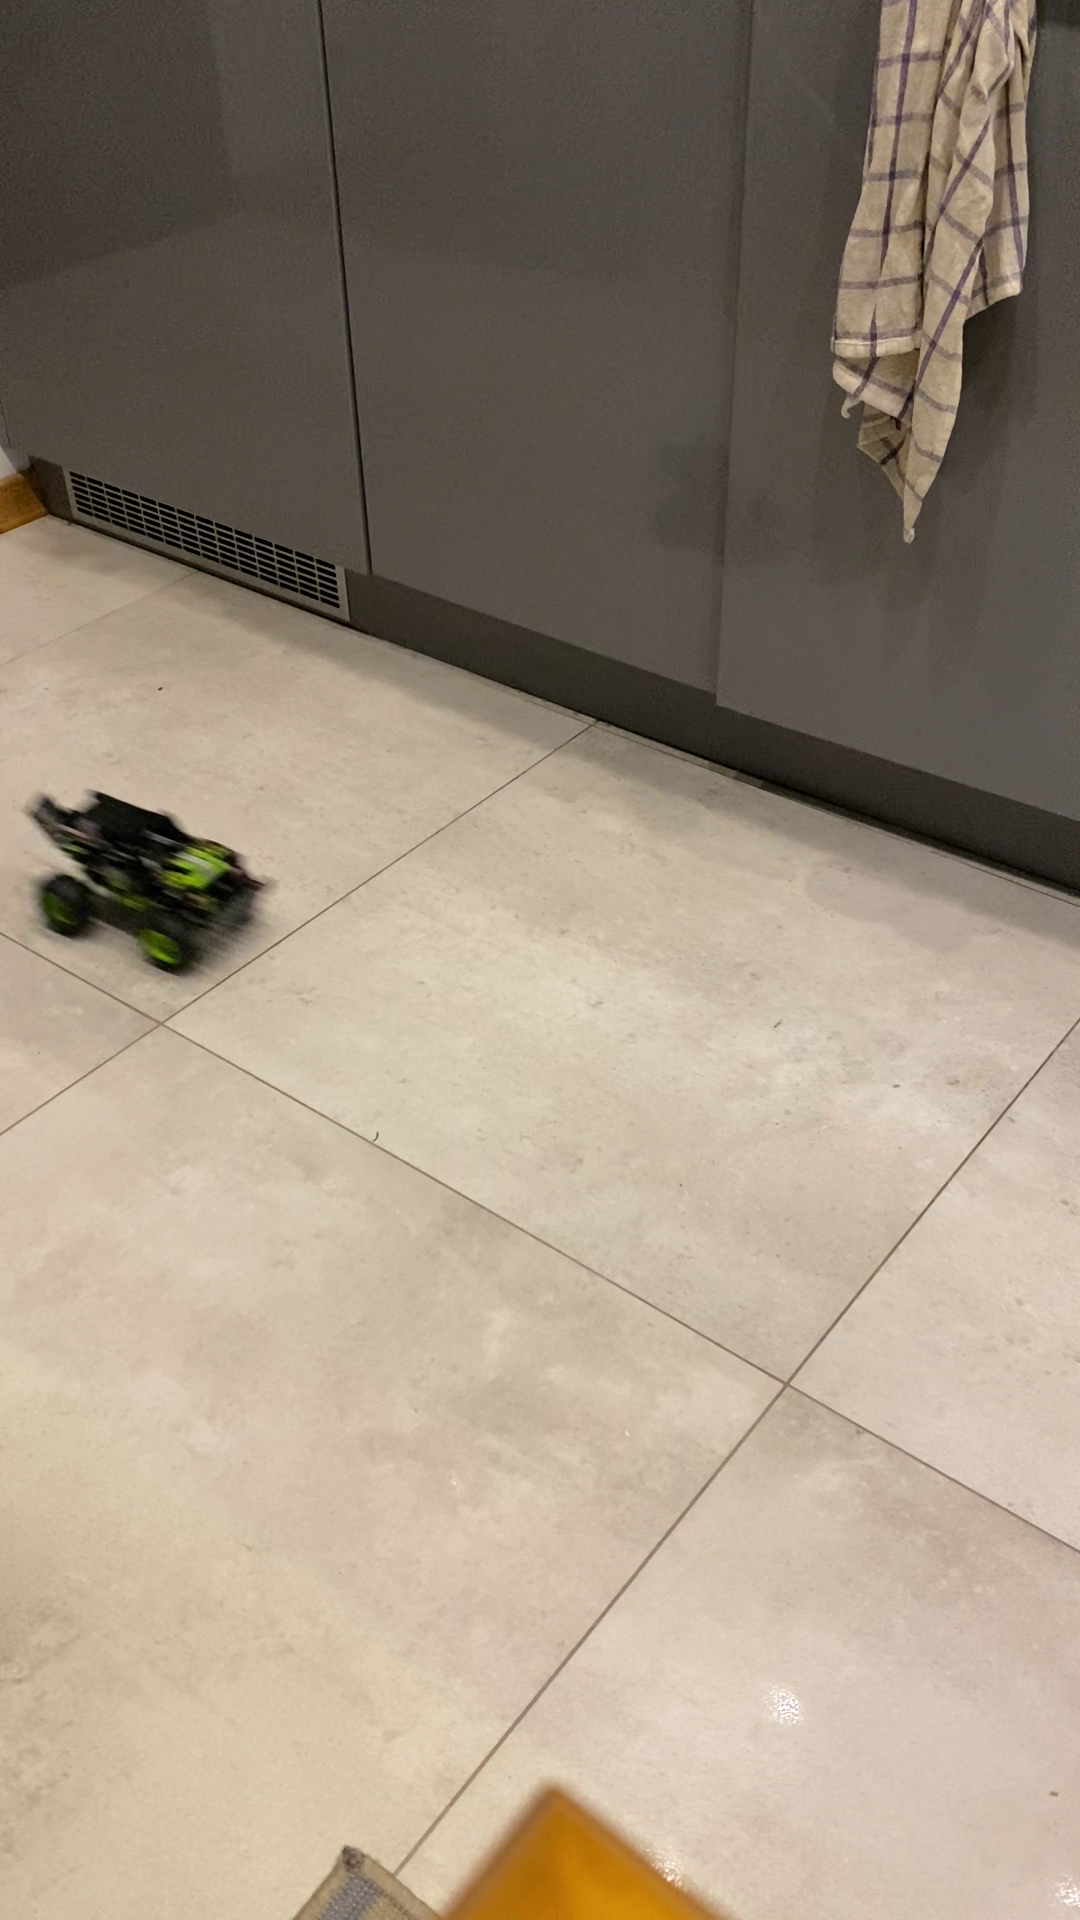car: (26, 777, 264, 967)
